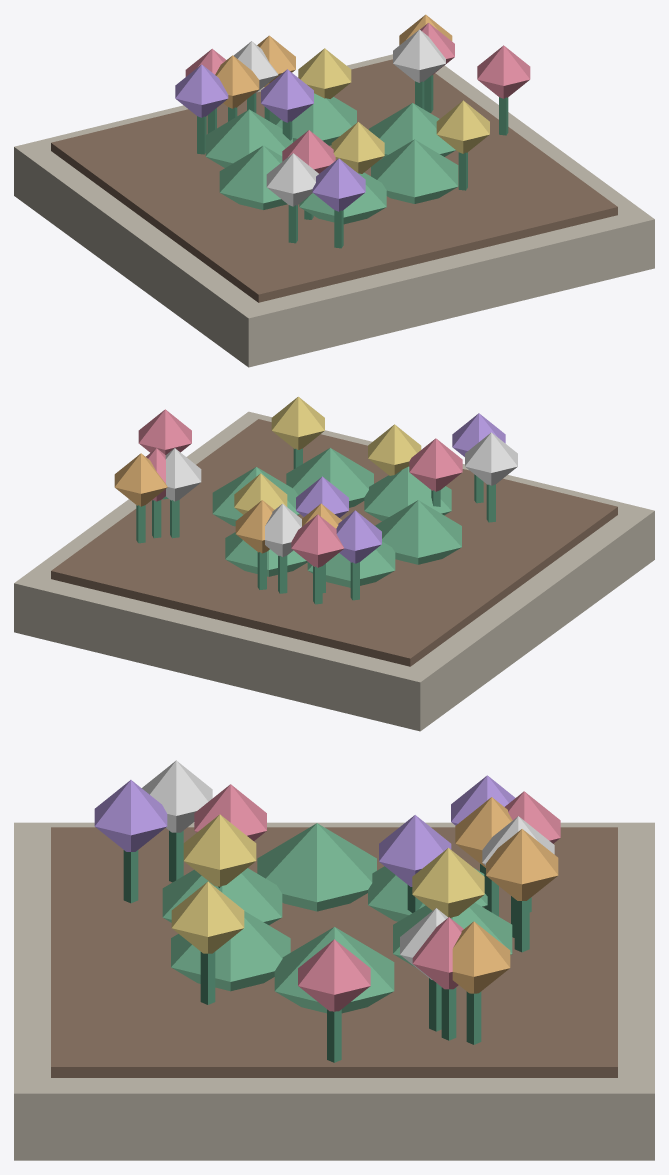
File: flower_bed.glb
3 views of the same model, one above another, from view 1: azimuth 30°, elevation 25°; view 2: azimuth 150°, elevation 25°; view 3: azimuth 270°, elevation 25° (orthographic). The views are drawn at different scales.
Bounding box in the file's own units: 2.6 × 0.89 × 2.6.
